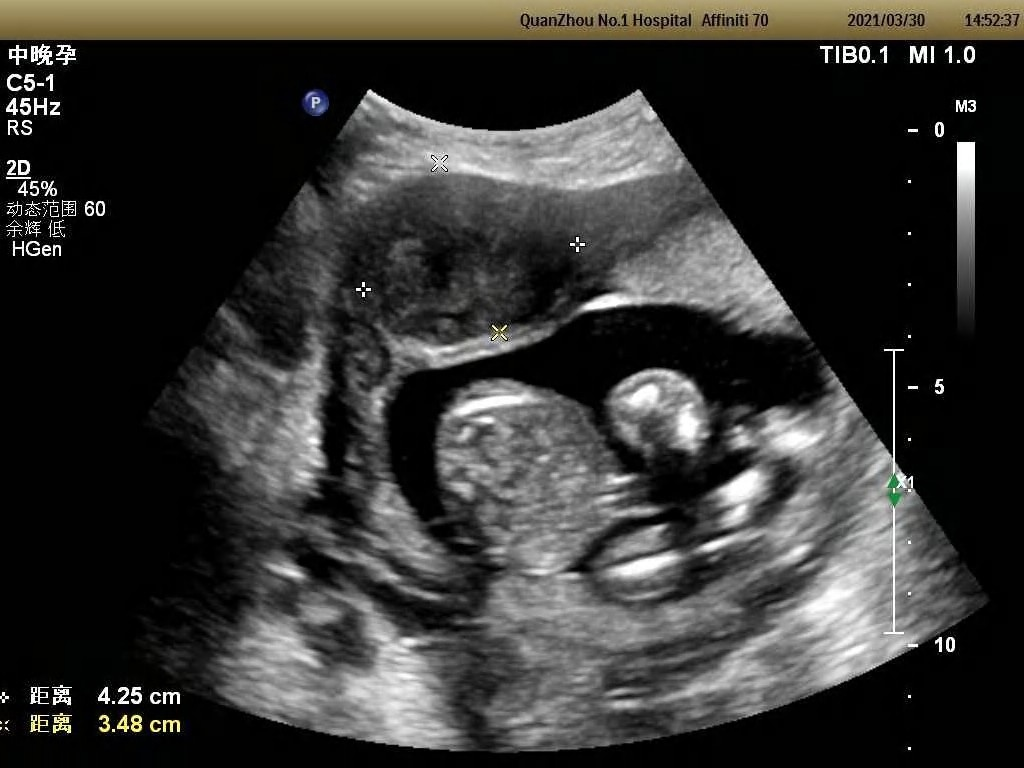肌瘤: (366, 187, 567, 331)
